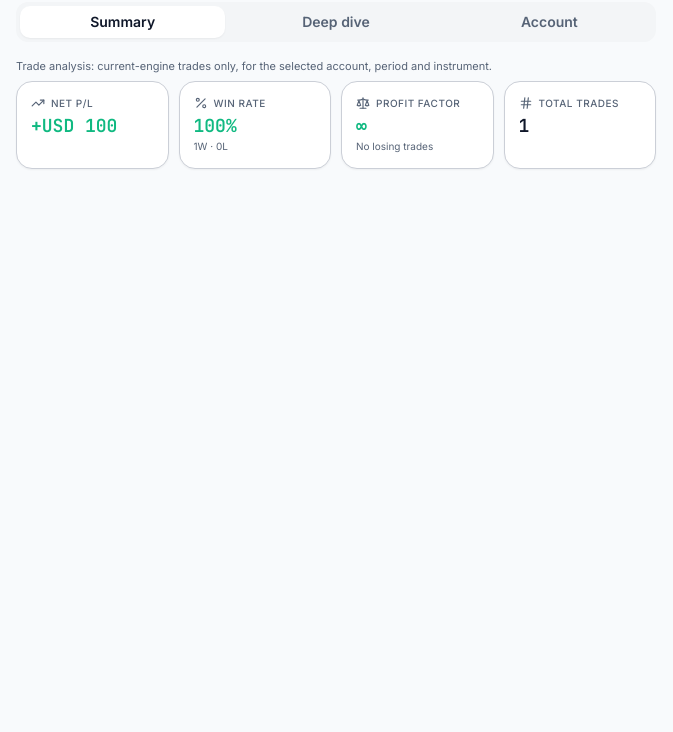
Test: JournalStats — Phase 7 breakdowns & safety › never shows an engine-version dropdown or a mixed-engine warning
Click the button "Deep dive".
click(336, 22)  # box [233,6,439,38]
(page scrolled)
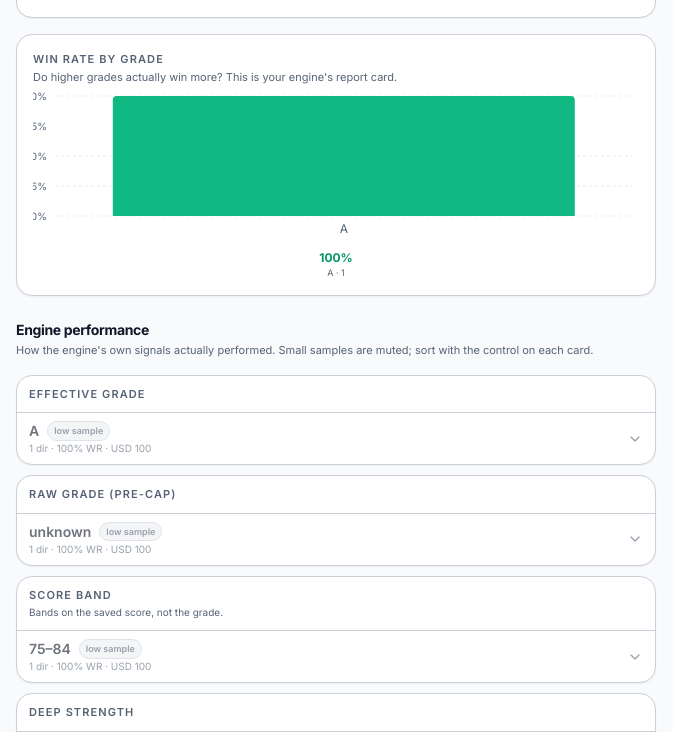
Expected: the heading "Engine performance" is shown, [16,321,149,338]
